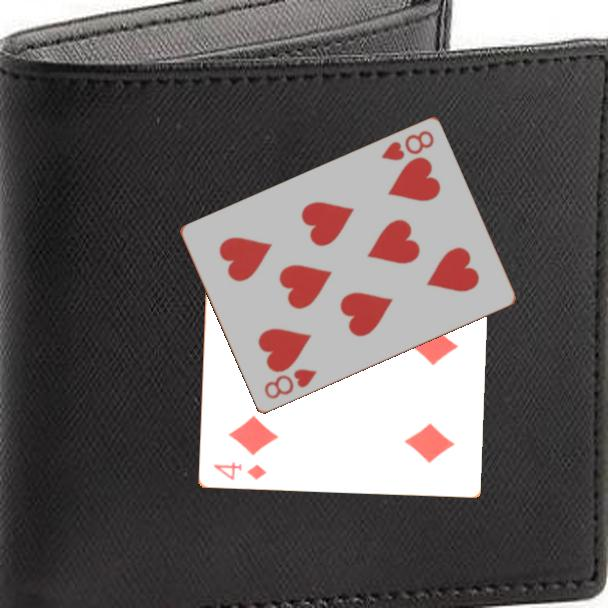d04: (210, 459, 269, 483)
h08: (377, 127, 437, 164), (260, 366, 320, 402)
